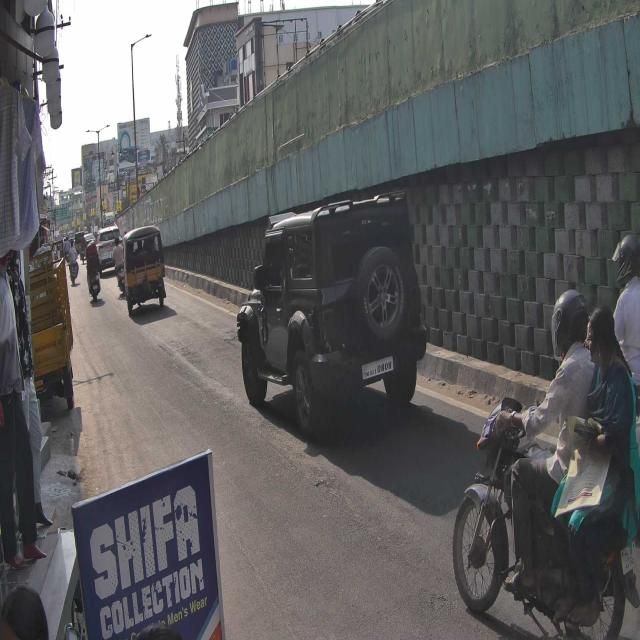double_rider: (452, 288, 640, 640)
